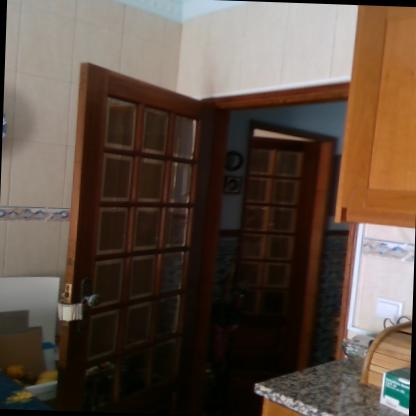open: (47, 55, 383, 416)
